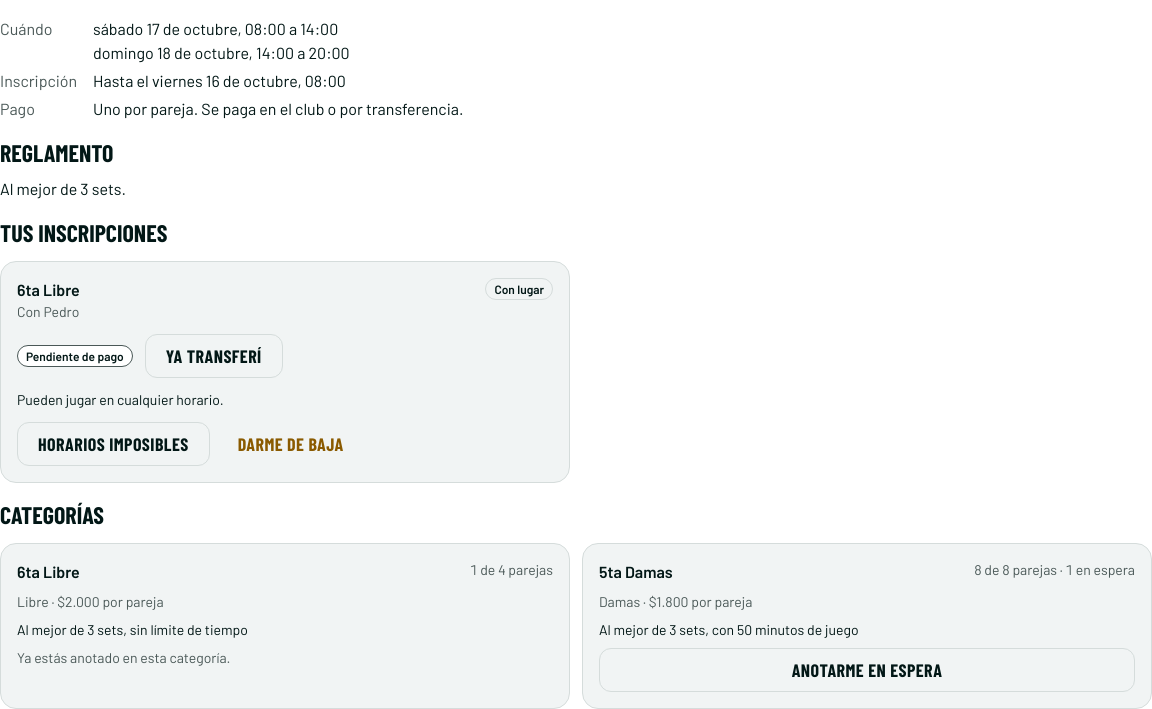
Test case: ChampionshipBoard › opens the sheet on the category tapped
(page scrolled)
Click the button with aria-label "Anotarme en 5ta Damas": (867, 670) [599, 648, 1135, 692]
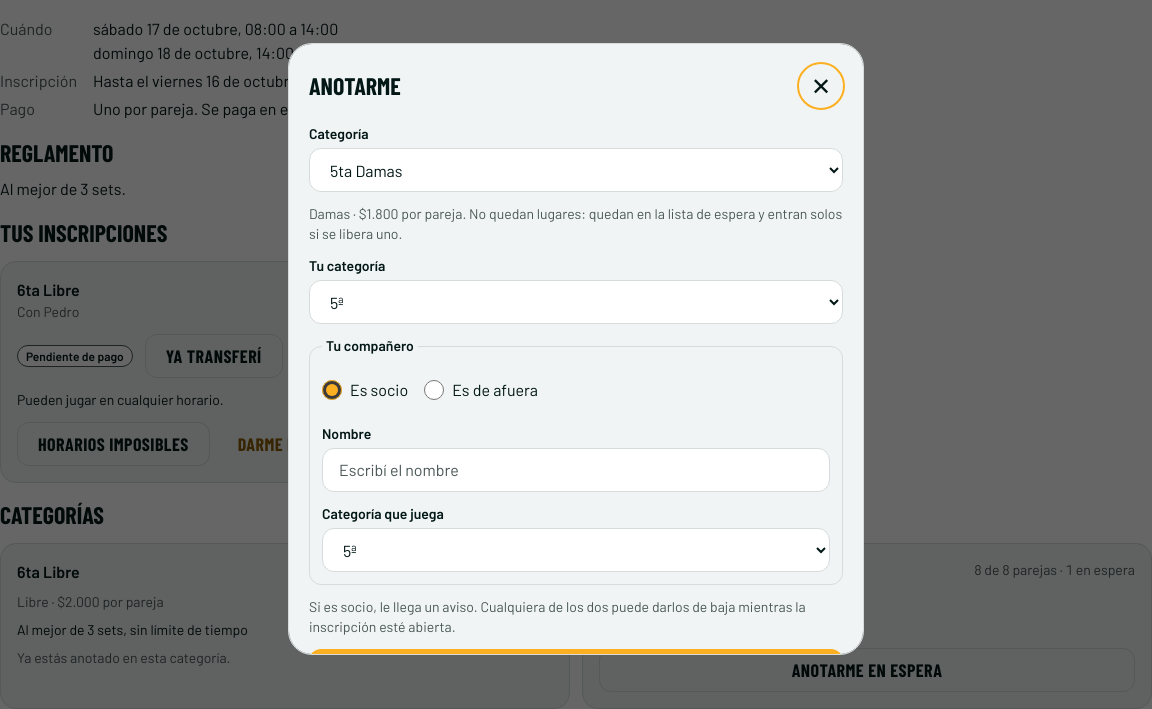
expect the dropdown labelled "Categoría" shows "5ta Damas": met, box [309, 148, 843, 192]
